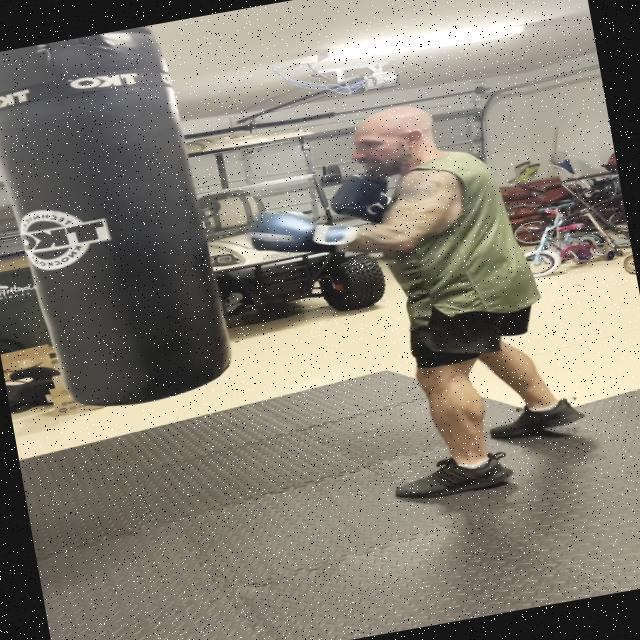cross: (210, 81, 529, 288)
